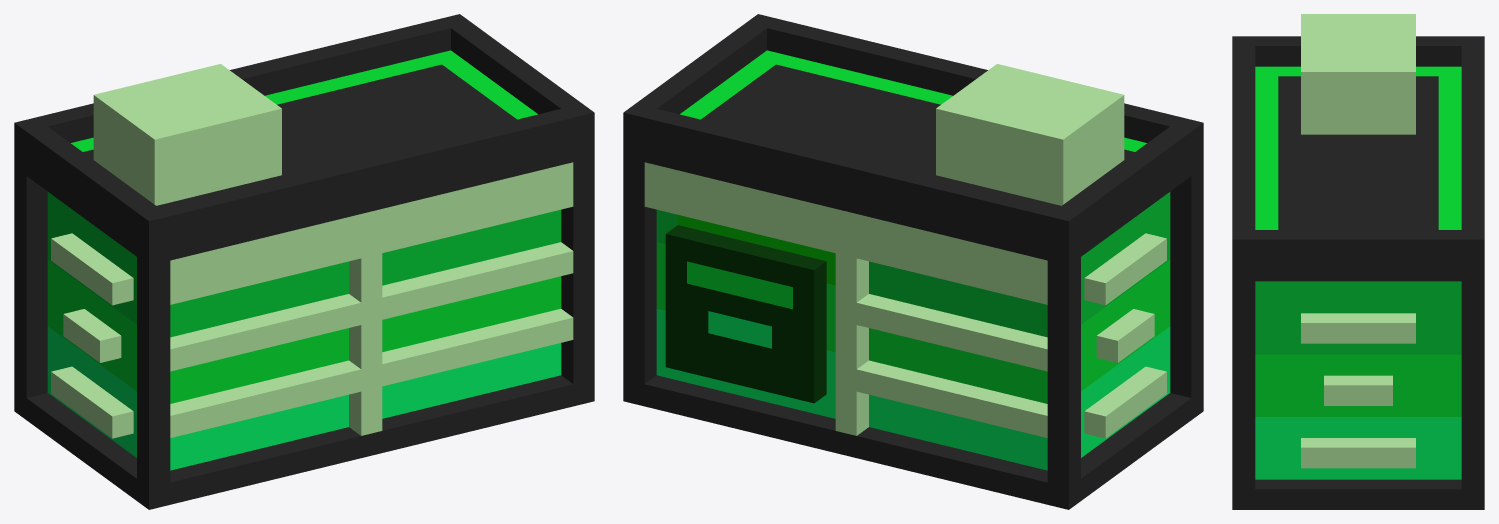
File: building-7.obj
3 views of the same model, side by side, from view 1: azimuth 30°, elevation 25°; view 2: azimuth 150°, elevation 25°; view 3: azimuth 270°, elevation 25° (orthographic). The views are drawn at different scales.
Bounding box in the file's own units: 2.1 × 1.5 × 1.1.
Materials: 1 (1 with a texture image).
